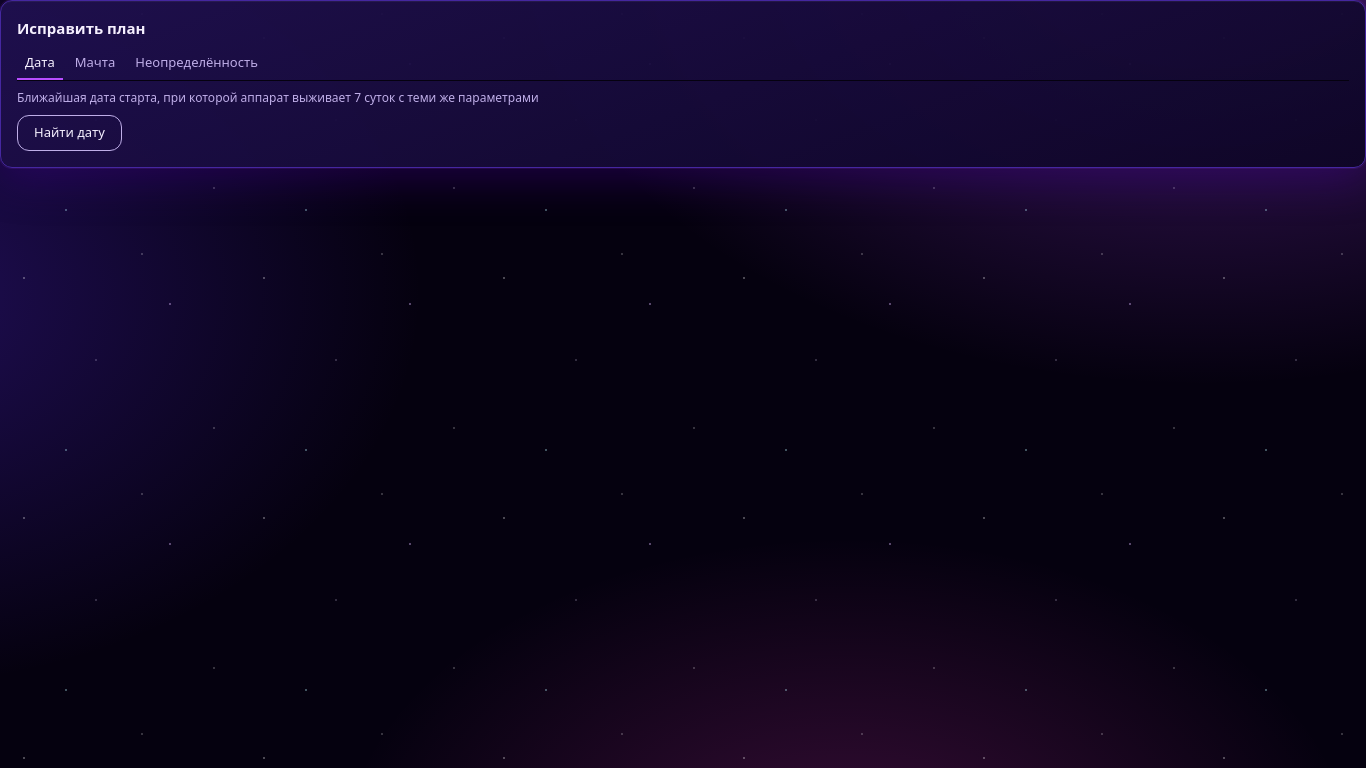
mast tab › compares every mast and applies the chosen one
Click the tab "Мачта". click: (95, 64)
box: [67,48,123,80]
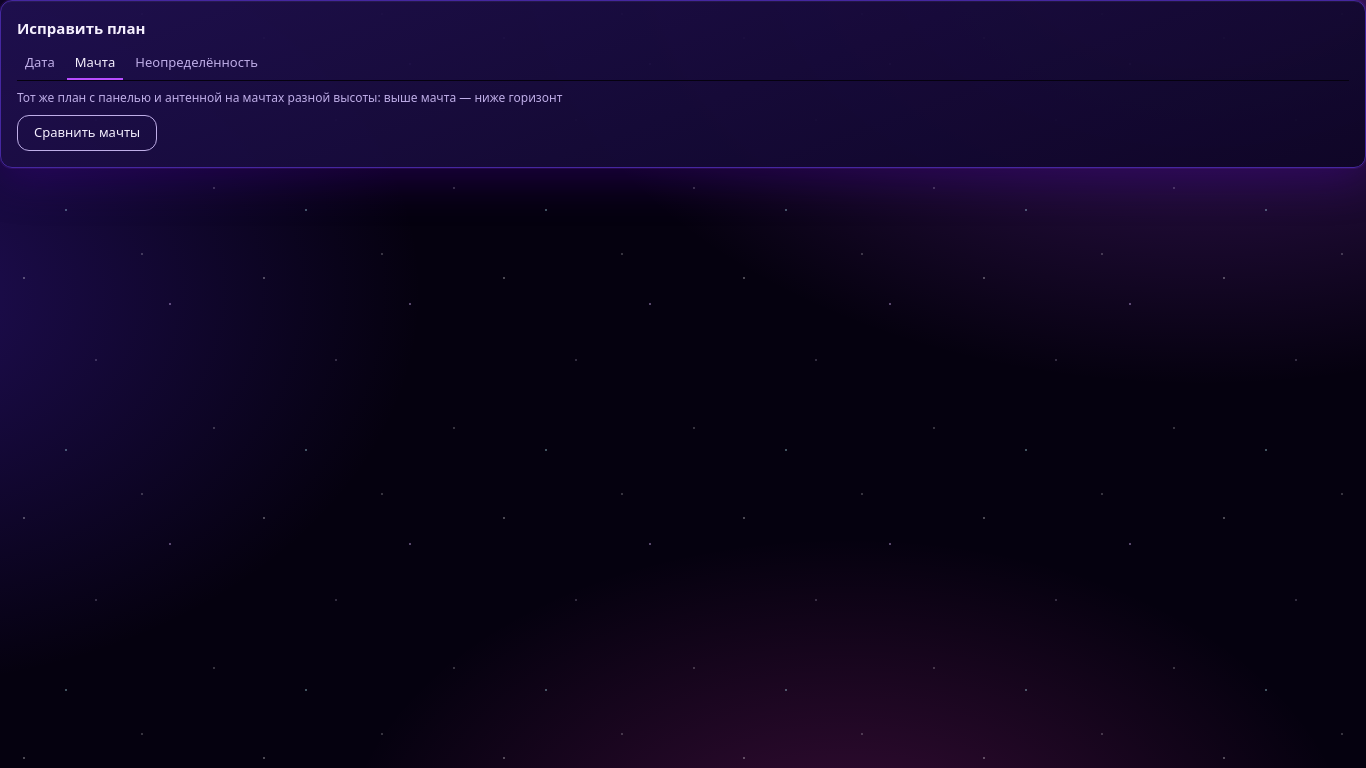
Click the button "Сравнить мачты". click: (87, 132)
box: [17,114,157,150]
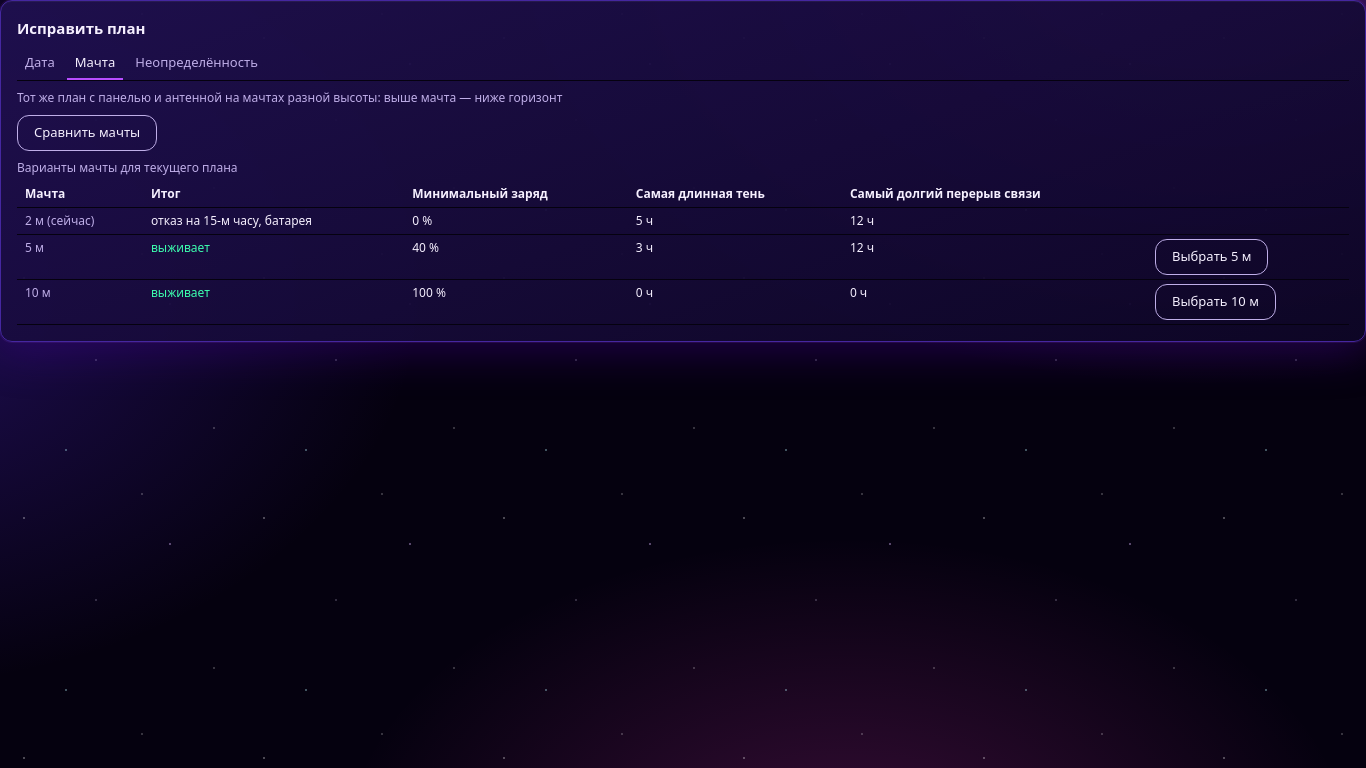
Now the row "2 м (сейчас) отказ на 15-м часу, батарея 0 % 5 ч 12 ч" is shown, box [17,207,1349,234]
Now the row "10 м выживает 100 % 0 ч 0 ч Выбрать 10 м" is shown, box [17,279,1349,324]
Click the button "Выбрать 10 м". click: (1215, 302)
box: [1155,284,1276,320]
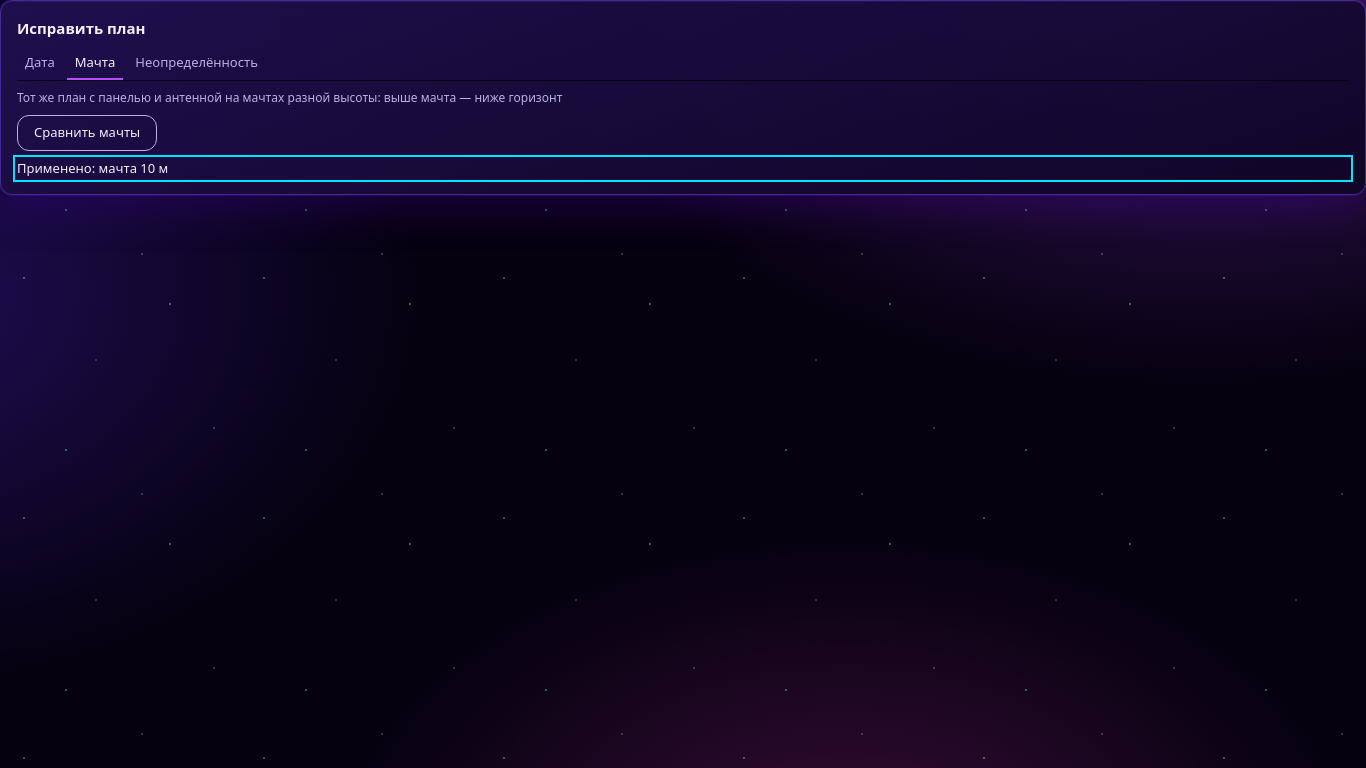
Now the message reads "Применено: мачта 10 м", box [17,158,168,176]
